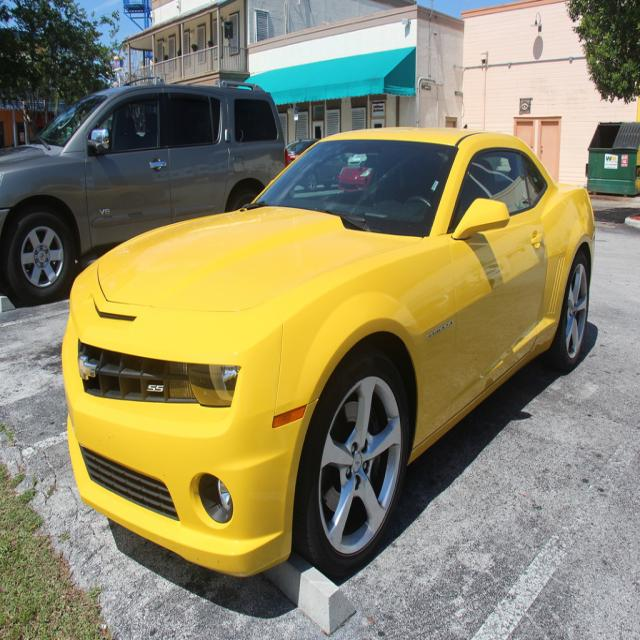car: (58, 109, 601, 581)
